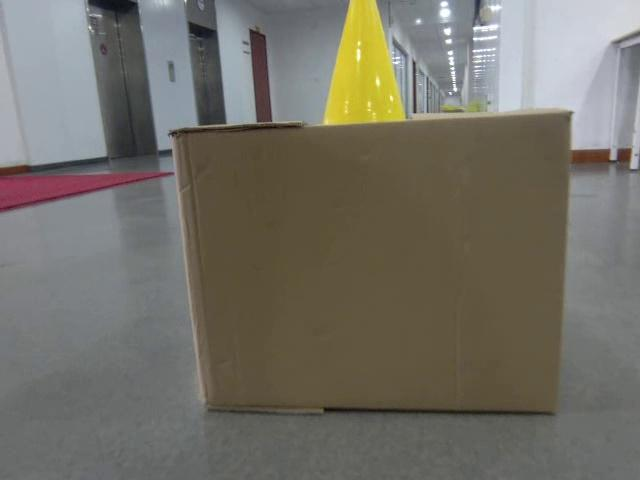yellow_barrel: (315, 0, 410, 124)
